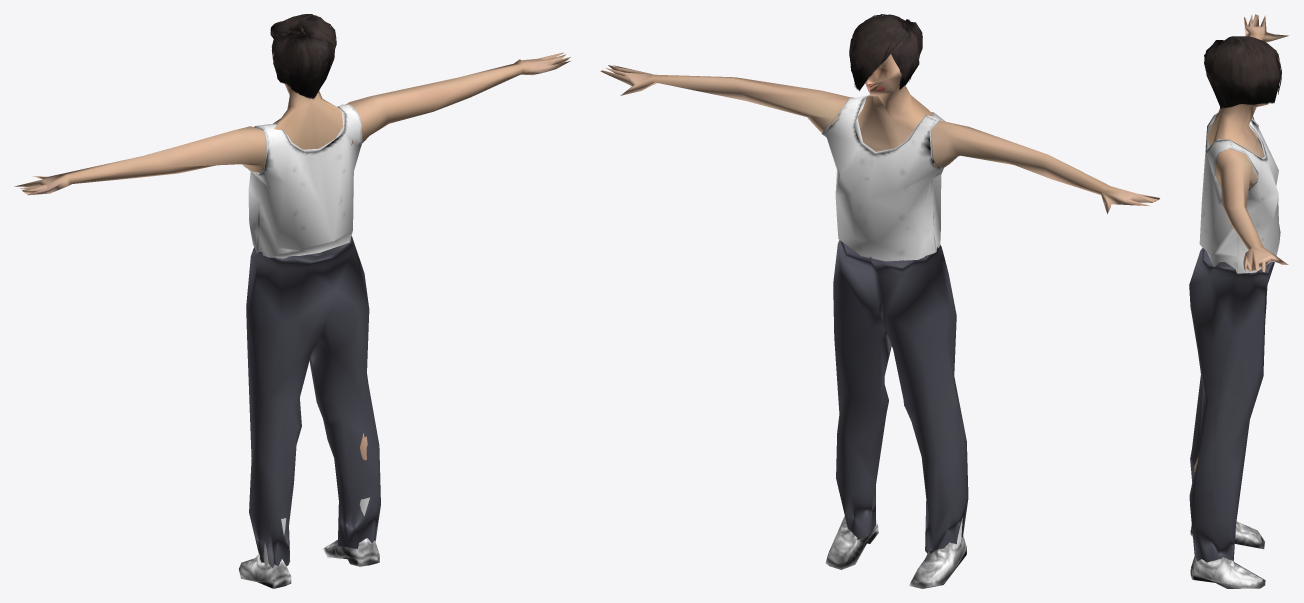
3 renders of one model, left to right at view 1: azimuth 30°, elevation 25°; view 2: azimuth 150°, elevation 25°; view 3: azimuth 270°, elevation 25°, orthographic. The views are drawn at different scales.
Visible parts, largest first — view 1: mensch; view 2: mensch; view 3: mensch.
Boxes of the visible parts, bbox=[...] form: mensch: bbox=[14, 14, 570, 588]; mensch: bbox=[600, 14, 1159, 588]; mensch: bbox=[1189, 14, 1288, 588].
Size of the model in its own units: 1.83 by 1.75 by 0.3015.
Materials: 1 (1 with a texture image).
